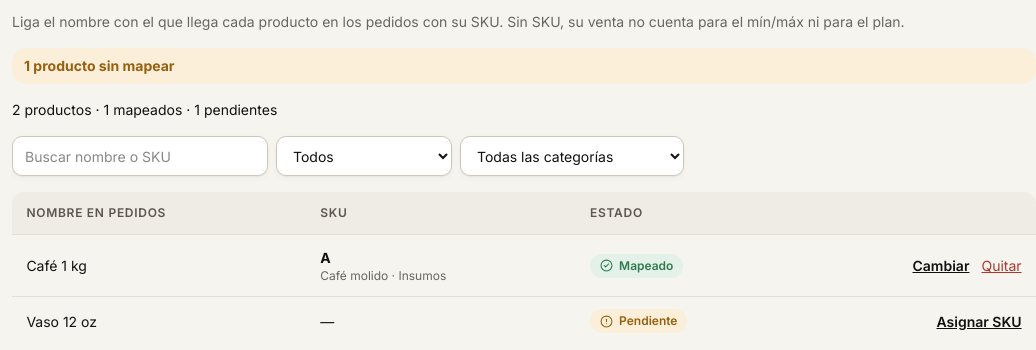
Test: pantalla Mapeo › el filtro Pendiente deja solo los sin SKU
Select "Pendientes" in the dropdown named "Estado" at (364, 156), box [276,136,452,176]
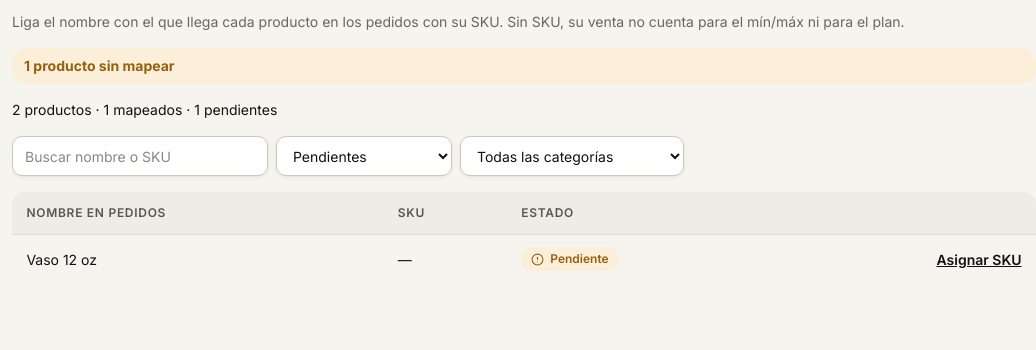
Expected: the text "Vaso 12 oz" is shown, [12,235,383,283]
Expected: the text "Café 1 kg" is gone
